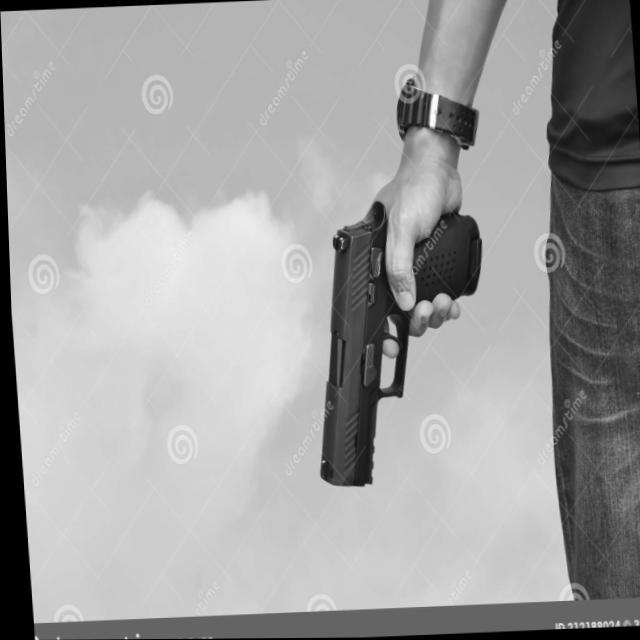weapon: (279, 184, 504, 505)
